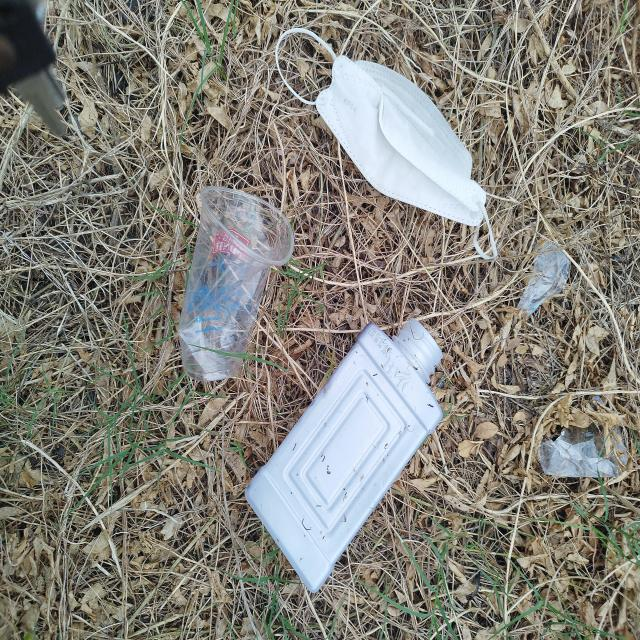bottle: (245, 317, 444, 594)
mask: (275, 27, 498, 260)
plastic glass: (178, 185, 294, 382)
